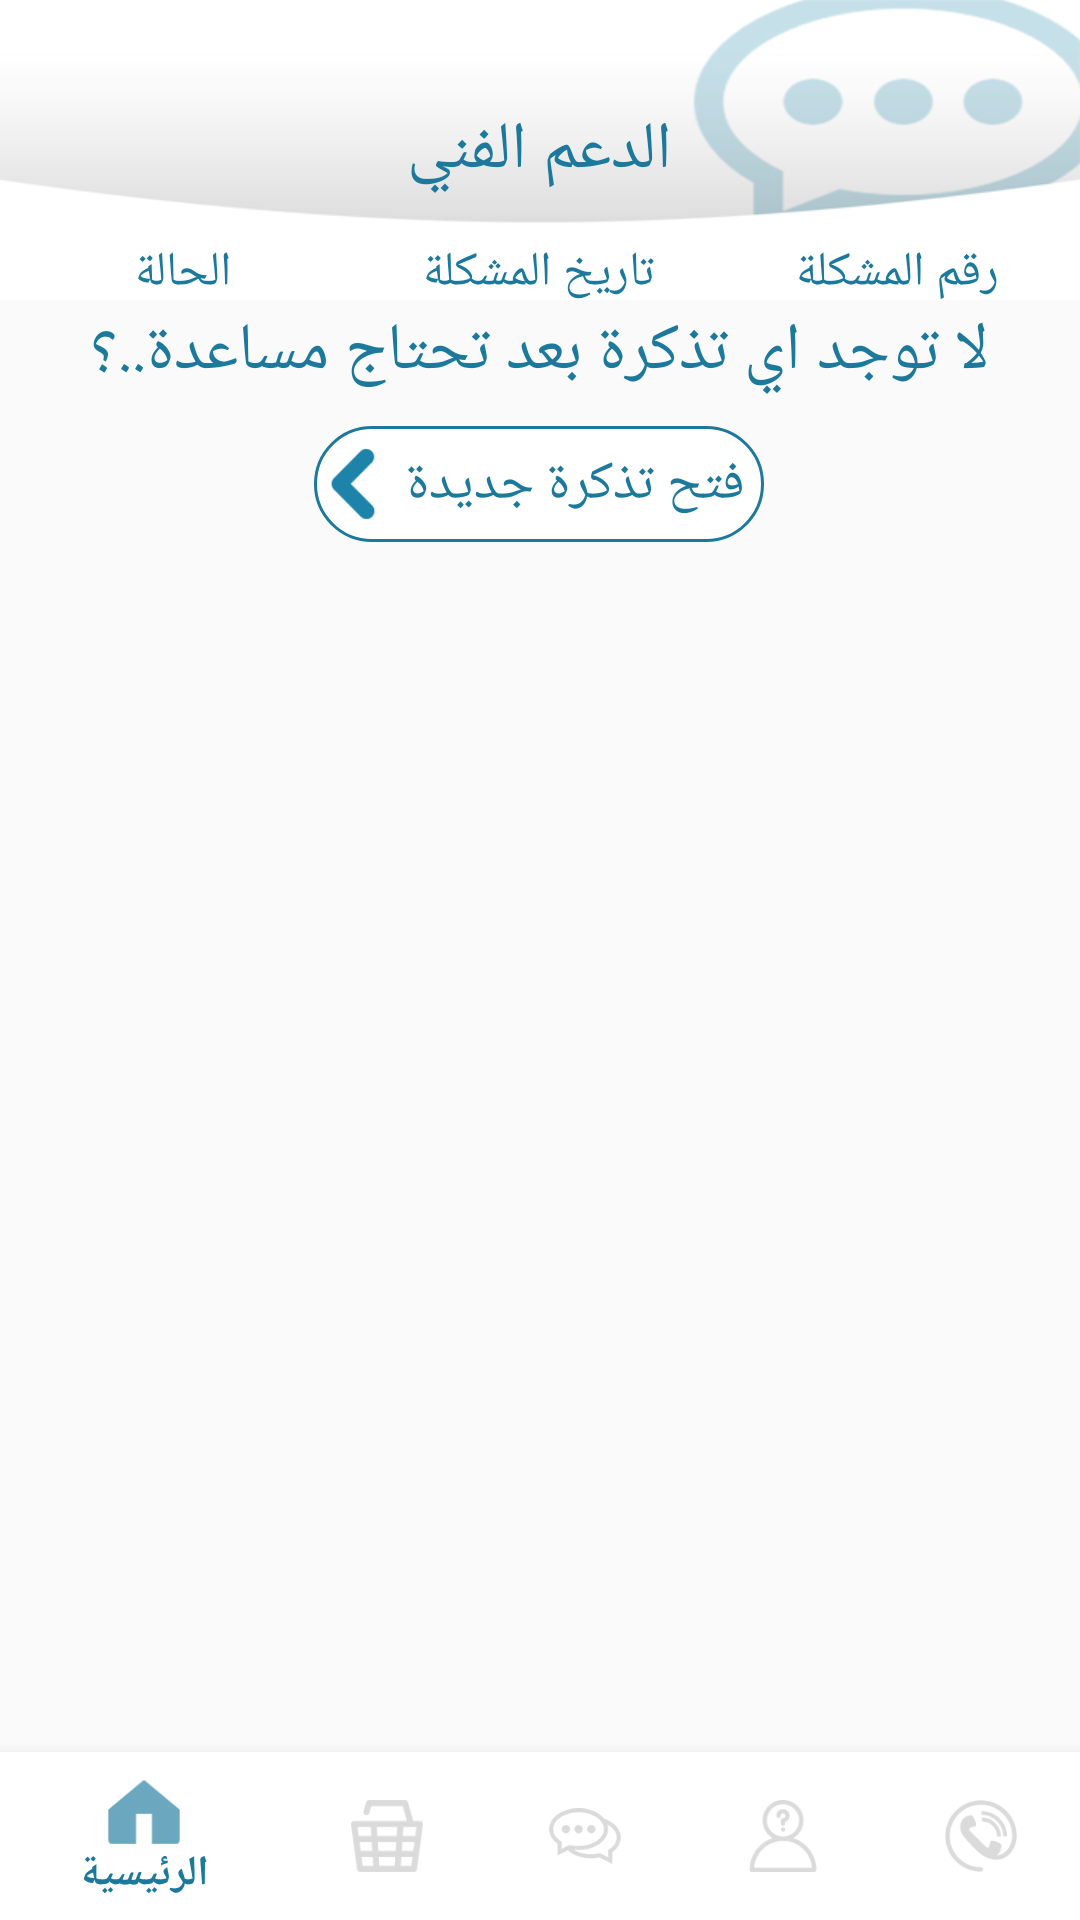

Icons on this 1080*1920 Android screen, each with its box as bbox=[x1, y1, x2, y2]:
go arrow: bbox=[331, 449, 375, 519]
